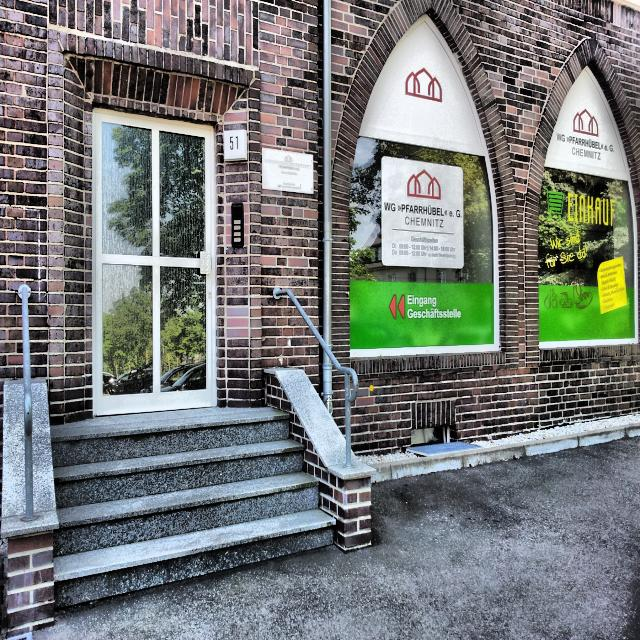escada: (44, 416, 334, 612)
